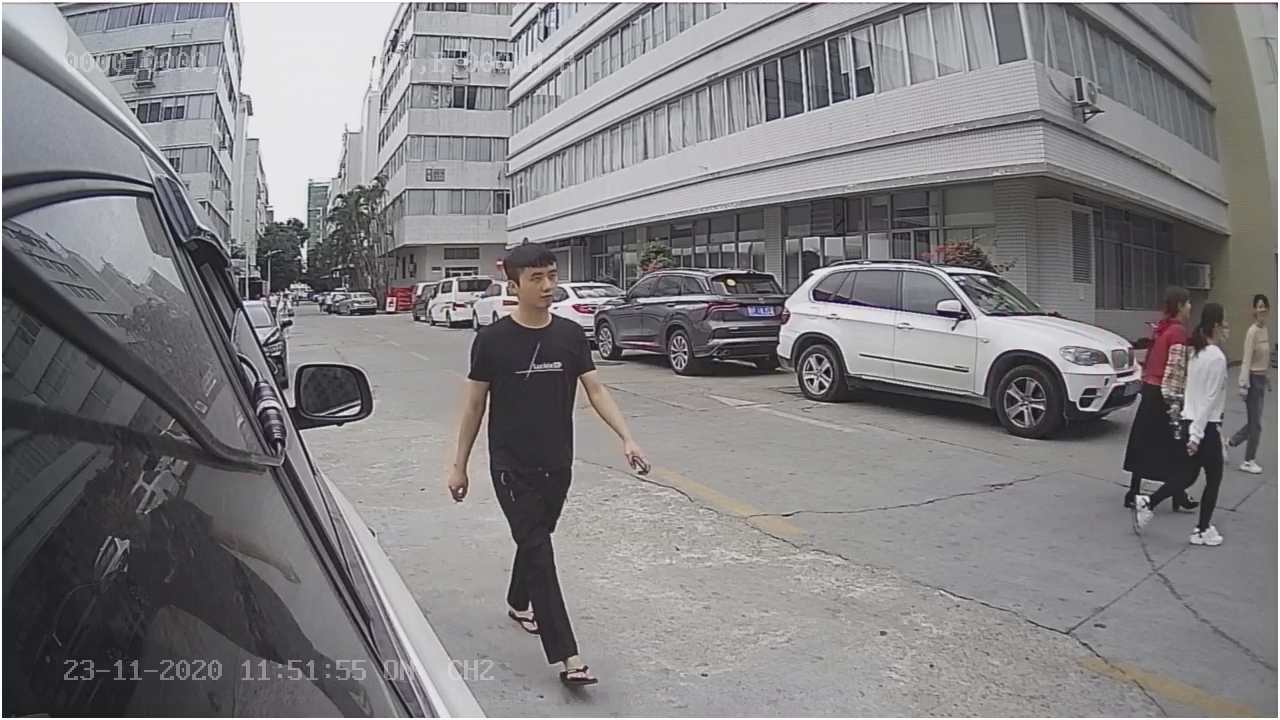person: (448, 235, 650, 687), (1132, 290, 1230, 555)
